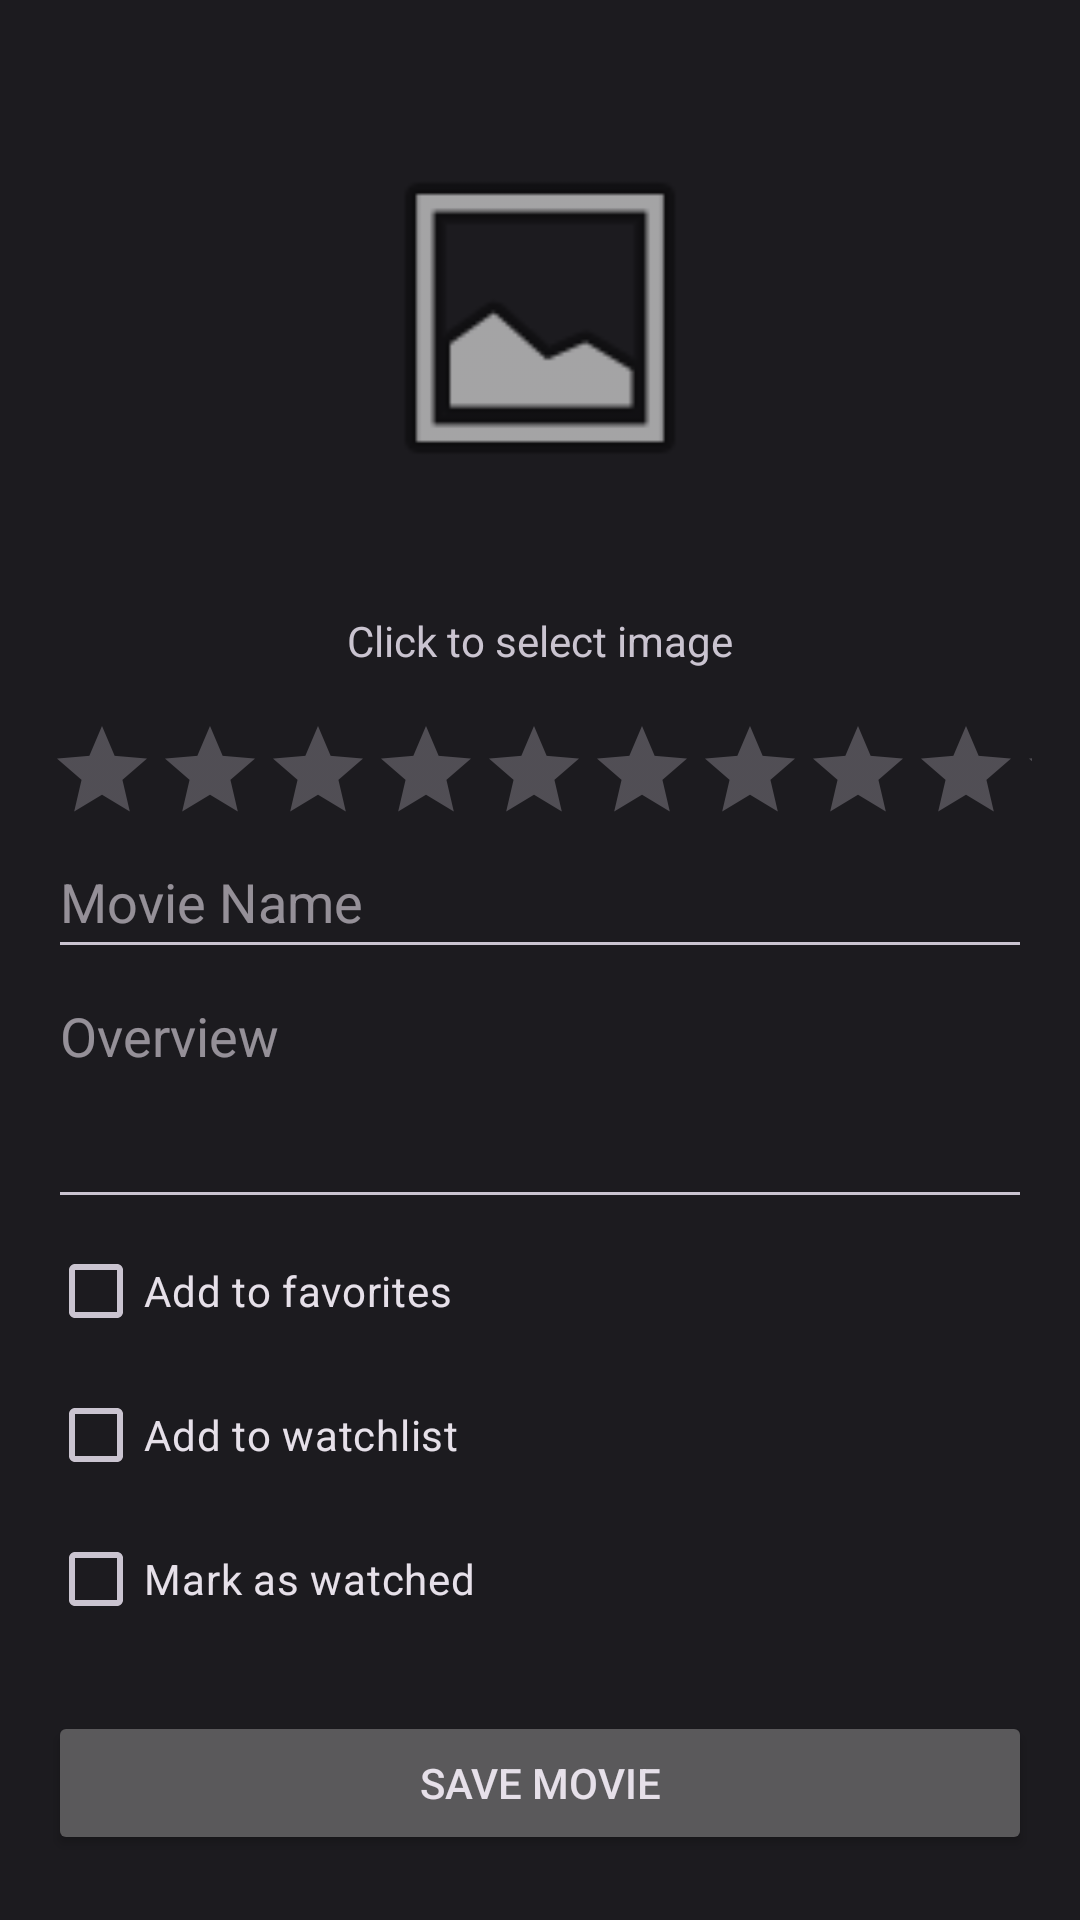

Icon bounding boxes for this 1080×1920 phone screenshot, format (x1, y1, x2, y2):
gallery: (415, 193, 665, 443)
